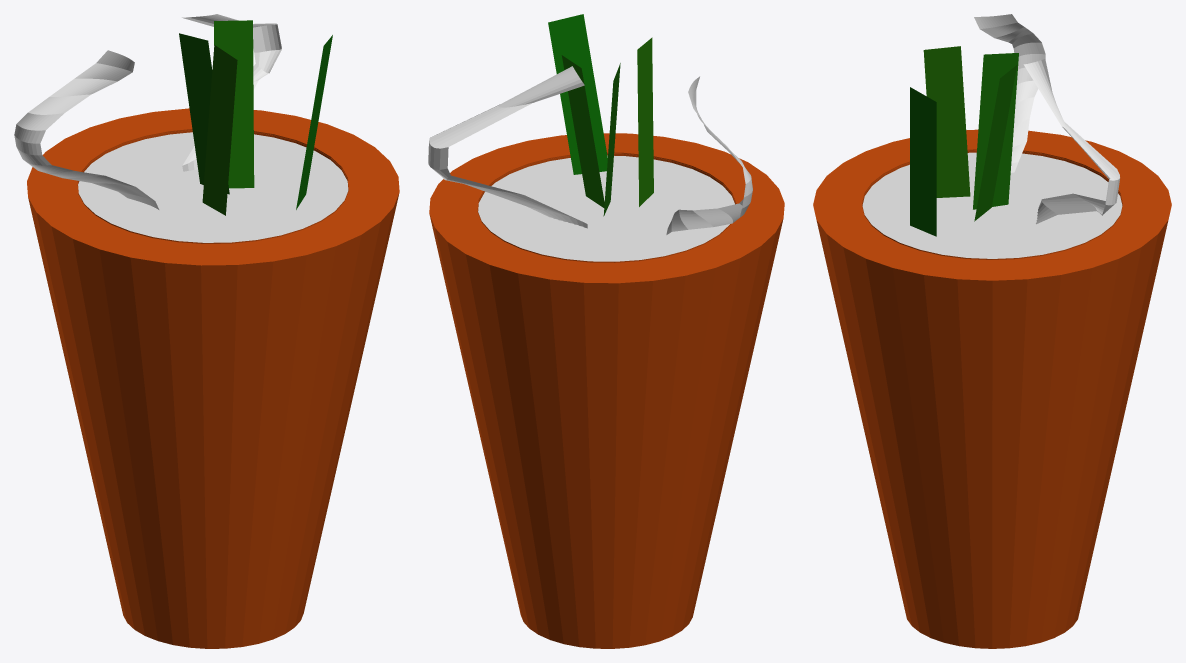
Rendered from doniczka.fbx.
3 views of the same model, side by side, from view 1: azimuth 30°, elevation 25°; view 2: azimuth 150°, elevation 25°; view 3: azimuth 270°, elevation 25° (orthographic). The views are drawn at different scales.
Visible parts, largest first — view 1: Walec, Walec.001, Prostokąt, Prostokąt.001, Prostokąt.005, Prostokąt.004, Prostokąt.002, Prostokąt.003; view 2: Walec, Walec.001, Prostokąt.002, Prostokąt.003, Prostokąt.005, Prostokąt.001, Prostokąt, Prostokąt.004; view 3: Walec, Walec.001, Prostokąt.005, Prostokąt.003, Prostokąt.004, Prostokąt, Prostokąt.002, Prostokąt.001.
Boxes of the visible parts, <box> form: Walec: <box>27,108,399,648</box>; Walec.001: <box>78,132,348,242</box>; Prostokąt: <box>14,50,159,209</box>; Prostokąt.001: <box>214,20,254,188</box>; Prostokąt.005: <box>202,45,237,215</box>; Prostokąt.004: <box>179,33,229,194</box>; Prostokąt.002: <box>182,14,281,171</box>; Prostokąt.003: <box>296,35,332,209</box>; Walec: <box>429,133,784,648</box>; Walec.001: <box>478,155,734,261</box>; Prostokąt.002: <box>428,66,587,228</box>; Prostokąt.003: <box>548,14,607,174</box>; Prostokąt.005: <box>637,37,653,206</box>; Prostokąt.001: <box>561,55,604,207</box>; Prostokąt: <box>666,76,752,234</box>; Prostokąt.004: <box>603,63,620,216</box>; Walec: <box>813,129,1171,648</box>; Walec.001: <box>862,152,1122,258</box>; Prostokąt.005: <box>923,46,970,197</box>; Prostokąt.003: <box>910,87,936,236</box>; Prostokąt.004: <box>973,53,1018,209</box>; Prostokąt: <box>974,14,1045,172</box>; Prostokąt.002: <box>1023,59,1119,224</box>; Prostokąt.001: <box>974,65,1016,221</box>.
Size of the model in its own units: 99.14 by 165 by 96.03.
